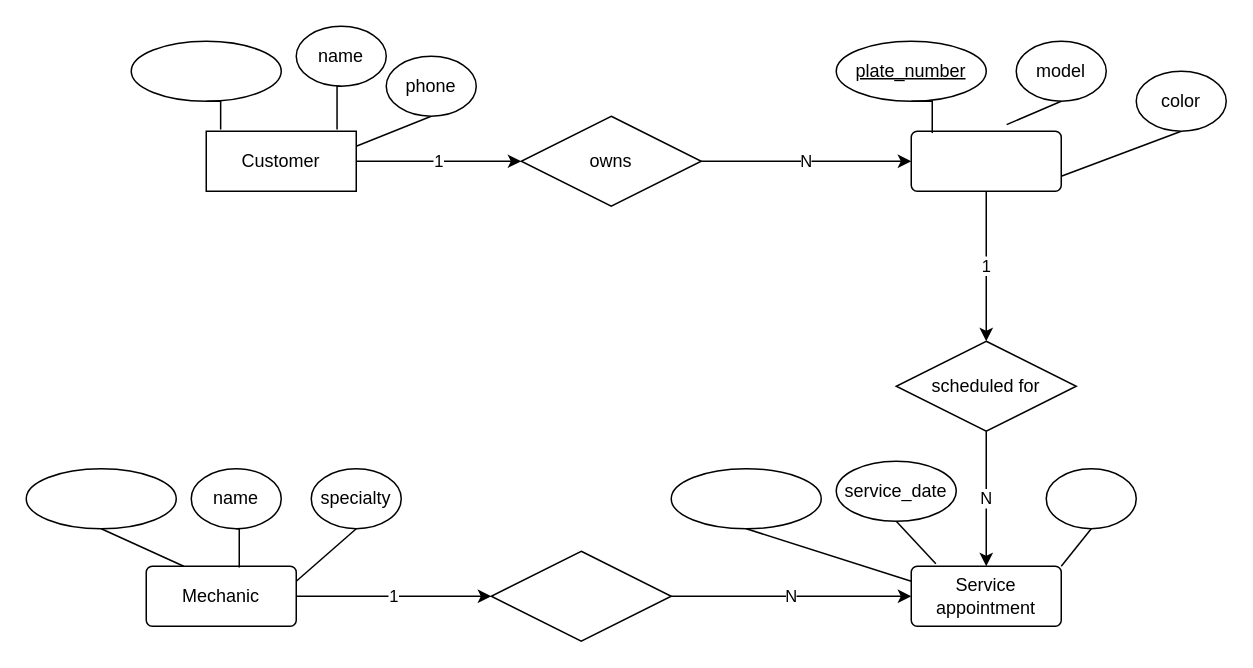
Some shapes in this 1253 by 668 pixel diagram are drawn without their labels. The shapes that lost their labels are listed below. From the top down, each one's centre as x and y in pixels, then its label:
At point (205, 70): "customer_id".
At point (985, 160): "Car".
At point (100, 498): "mechanic_id".
At point (745, 498): "appointment_id".
At point (1090, 498): "repair_note".
At point (580, 595): "conducts".
